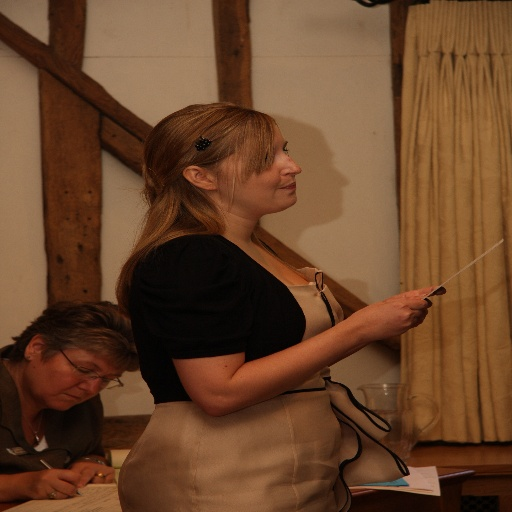hand: (349, 297, 429, 346), (20, 461, 93, 502), (67, 458, 117, 492), (383, 284, 447, 301)
